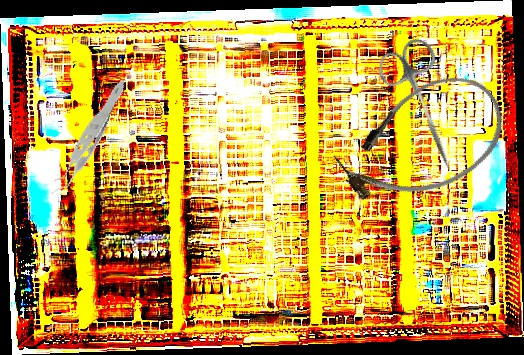Cannula: (323, 57, 521, 226)
Iris Scissors: (371, 33, 479, 181)
Tissue Forceps: (17, 78, 156, 197)
